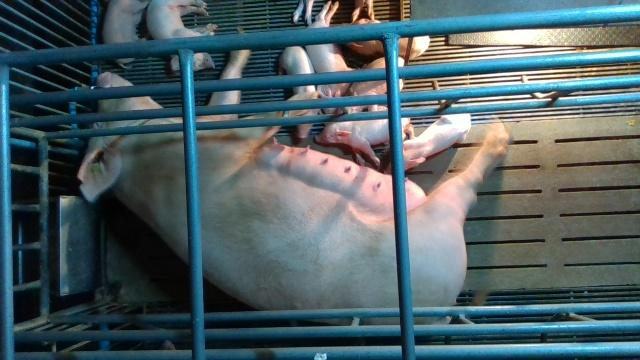piglet: (385, 114, 470, 175), (147, 1, 218, 72), (305, 1, 356, 97), (315, 119, 412, 166), (277, 46, 317, 140), (102, 1, 153, 69)
sow-sleep-lactate: (76, 28, 511, 325)
